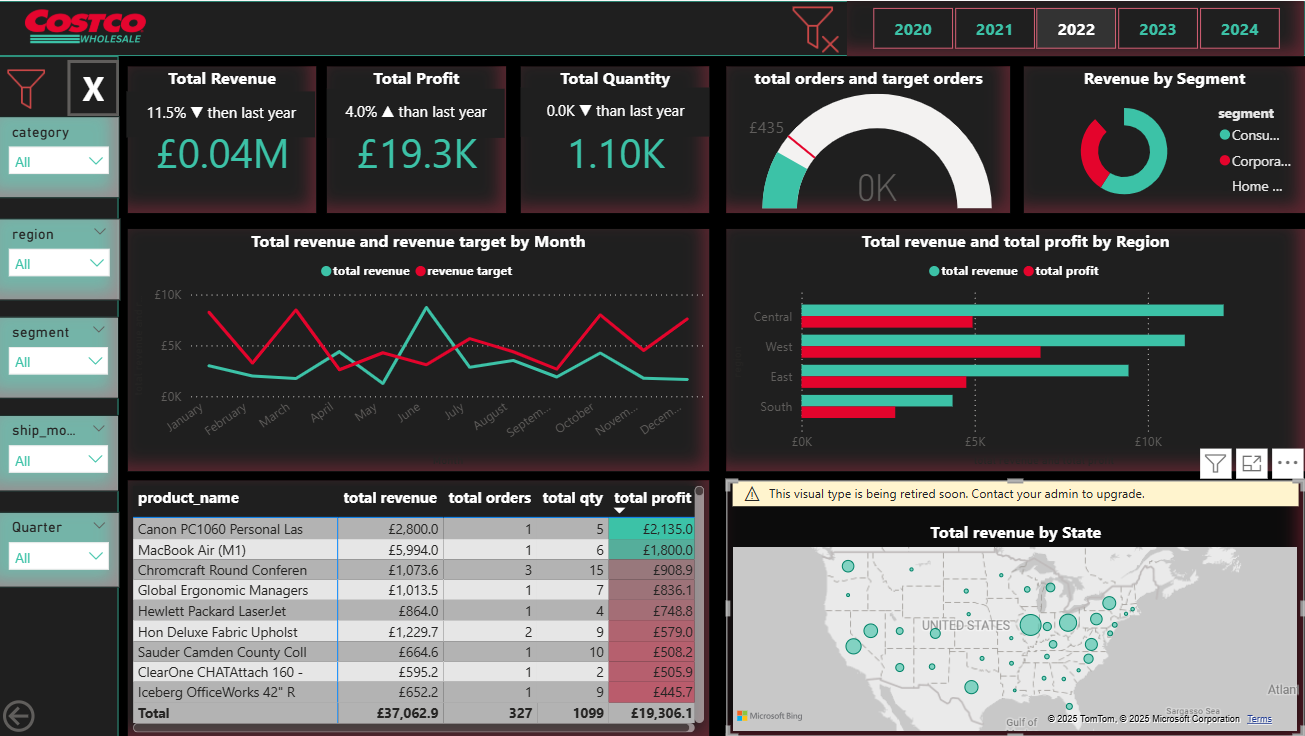

The page's visual inventory and layout, read from the dashboard file:
{"tool":"powerbi","page":{"name":"Sales Analysis","canvas":[1280,720],"ordinal":0},"visuals":[{"type":"shape","title":"Top Shape","box":[0,0,1279.6,53.9],"z":0},{"type":"slicer","fields":{"Values":["products.category"]},"box":[0,112.5,119,80.2],"z":0,"group":"g1"},{"type":"image","title":"Clear Filter","box":[769.8,0,61.1,55.2],"z":1000},{"type":"slicer","fields":{"Values":["customers.region"]},"box":[0,213.1,119.8,80.3],"z":1000,"group":"g1"},{"type":"shape","title":"Left Shape","box":[0,53.9,118,666.7],"z":2000},{"type":"slicer","fields":{"Values":["customers.segment"]},"box":[0,309.1,118.5,80.3],"z":2000,"group":"g1"},{"type":"image","box":[0,0,170.5,53.9],"z":3000},{"type":"slicer","fields":{"Values":["sales.ship_mode"]},"box":[0,405.2,118.5,75],"z":3000,"group":"g1"},{"type":"card","title":"Total Revenue","fields":{"Values":["measures_table.total revenue"]},"box":[126.4,63.9,185,143.7],"z":4000},{"type":"slicer","fields":{"Values":["date_table.Quarter"]},"box":[0,500.2,119,74.2],"z":4000,"group":"g1"},{"type":"card","title":"Total Profit","fields":{"Values":["measures_table.total profit"]},"box":[322,63.9,175.7,143.7],"z":5000},{"type":"card","title":"Total Quantity","fields":{"Values":["measures_table.total qty"]},"box":[511,63.9,185,143.7],"z":6000},{"type":"clusteredBarChart","title":"Total revenue and total profit by Region","fields":{"Category":["customers.region"],"Y":["measures_table.total revenue","measures_table.total profit"]},"box":[712.9,223.1,566.7,237.2],"z":7000},{"type":"lineChart","title":"Total revenue and revenue target by Month","fields":{"Category":["date_table.Month Start Date.Variation.Date Hierarchy.Year","date_table.Month Start Date.Variation.Date Hierarchy.Quarter","date_table.Month Start Date.Variation.Date Hierarchy.Month","date_table.Month Start Date.Variation.Date Hierarchy.Day"],"Y":["measures_table.total revenue","measures_table.revenue target"]},"box":[126.9,223.1,569.3,237.2],"z":8000},{"type":"actionButton","box":[0,679.6,101.3,41],"z":9000},{"type":"actionButton","title":"Close Filter Pane Button","box":[67.6,57.8,50.7,55.2],"z":10000},{"type":"gauge","fields":{"Y":["measures_table.total orders"],"TargetValue":["measures_table.target orders"]},"box":[712.9,64.1,278.2,143.6],"z":11000},{"type":"donutChart","title":"Revenue by Segment","fields":{"Category":["customers.segment"],"Y":["measures_table.total revenue"]},"box":[1004,64.1,275.7,143.6],"z":12000},{"type":"pivotTable","fields":{"Rows":["products.product_name"],"Values":["measures_table.total revenue","measures_table.total orders","measures_table.total qty","measures_table.total profit"]},"box":[126.9,469.3,569.3,251.3],"z":13000},{"type":"image","title":"Open filter Pane Button","box":[1.3,53.9,52.6,65.4],"z":14000},{"type":"map","title":"Total revenue by State","fields":{"Category":["customers.state"],"Size":["measures_table.total revenue"]},"box":[712.9,469.3,565.5,251.3],"z":15000},{"type":"slicer","fields":{"Values":["date_table.Year"]},"box":[830.9,0,447.5,53.9],"z":16000},{"type":"group","id":"g1","title":"Filter Pane","box":[0,112.5,119.8,461.9],"z":17000},{"type":"card","fields":{"Values":["measures_table.kpi revenue YOY"]},"box":[126,88.3,184.8,44.7],"z":18000},{"type":"card","fields":{"Values":["measures_table.kpi profit YOY"]},"box":[322,86.5,174.3,47.9],"z":19000},{"type":"card","fields":{"Values":["measures_table.kpi qty YOY"]},"box":[511,85.2,185,47.9],"z":20000}]}

Visuals, with their boxes in screenshot pixels (x1, y1, x2, y2), scaled from the page's 1280x720 canvas onto the 1305x736 screenshot:
"Top Shape" shape: pyautogui.locateOnScreen(0, 0, 1304, 55)
slicer - products.category: pyautogui.locateOnScreen(0, 115, 121, 197)
"Clear Filter" image: pyautogui.locateOnScreen(785, 0, 847, 56)
slicer - customers.region: pyautogui.locateOnScreen(0, 218, 122, 300)
"Left Shape" shape: pyautogui.locateOnScreen(0, 55, 120, 735)
slicer - customers.segment: pyautogui.locateOnScreen(0, 316, 121, 398)
image: pyautogui.locateOnScreen(0, 0, 174, 55)
slicer - sales.ship_mode: pyautogui.locateOnScreen(0, 414, 121, 491)
"Total Revenue" card: pyautogui.locateOnScreen(129, 65, 317, 212)
slicer - date_table.Quarter: pyautogui.locateOnScreen(0, 511, 121, 587)
"Total Profit" card: pyautogui.locateOnScreen(328, 65, 507, 212)
"Total Quantity" card: pyautogui.locateOnScreen(521, 65, 710, 212)
"Total revenue and total profit by Region" clusteredBarChart: pyautogui.locateOnScreen(727, 228, 1304, 471)
"Total revenue and revenue target by Month" lineChart: pyautogui.locateOnScreen(129, 228, 710, 471)
actionButton: pyautogui.locateOnScreen(0, 695, 103, 735)
"Close Filter Pane Button" actionButton: pyautogui.locateOnScreen(69, 59, 121, 116)
gauge - measures_table.total orders x measures_table.target orders: pyautogui.locateOnScreen(727, 66, 1010, 212)
"Revenue by Segment" donutChart: pyautogui.locateOnScreen(1024, 66, 1304, 212)
pivotTable - products.product_name x measures_table.total revenue: pyautogui.locateOnScreen(129, 480, 710, 735)
"Open filter Pane Button" image: pyautogui.locateOnScreen(1, 55, 55, 122)
"Total revenue by State" map: pyautogui.locateOnScreen(727, 480, 1303, 735)
slicer - date_table.Year: pyautogui.locateOnScreen(847, 0, 1303, 55)
"Filter Pane" group: pyautogui.locateOnScreen(0, 115, 122, 587)
card - measures_table.kpi revenue YOY: pyautogui.locateOnScreen(128, 90, 317, 136)
card - measures_table.kpi profit YOY: pyautogui.locateOnScreen(328, 88, 506, 137)
card - measures_table.kpi qty YOY: pyautogui.locateOnScreen(521, 87, 710, 136)
